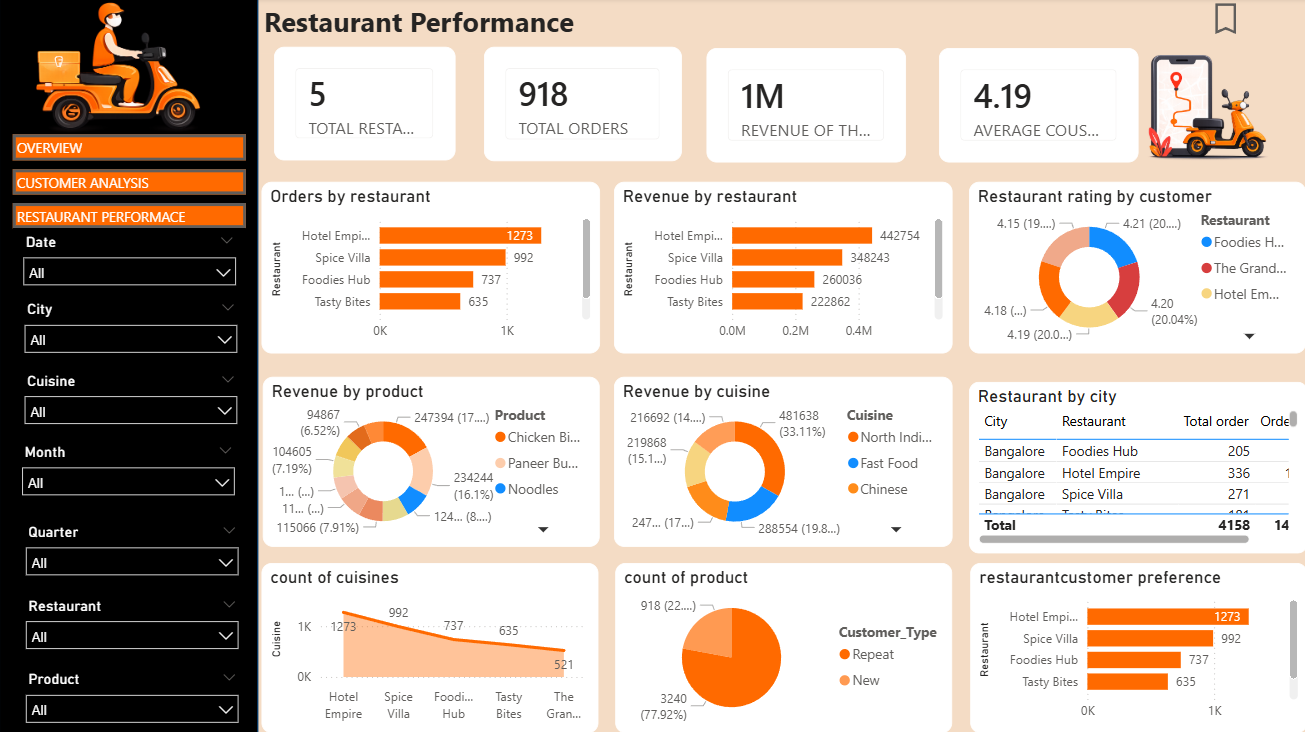

What the dashboard file says about the page in this screenshot:
{"tool":"powerbi","page":{"name":"Page 3","canvas":[1280,720],"ordinal":2},"visuals":[{"type":"shape","box":[0,0,253.9,720.4],"z":0},{"type":"image","box":[25.9,0,184,133.3],"z":1000},{"type":"actionButton","title":"OVERVIEW","box":[13.6,133.3,228.4,25.9],"z":2000},{"type":"actionButton","title":"OVERVIEW","box":[13.6,167.9,228.4,24.7],"z":3000},{"type":"actionButton","title":"OVERVIEW","box":[13.6,200,228.4,24.7],"z":4000},{"type":"slicer","fields":{"Values":["Orders.Order_Date"]},"box":[13.6,224.7,228.4,56.8],"z":5000},{"type":"textbox","box":[254.3,0,404.9,54.3],"z":6000},{"type":"cardVisual","fields":{"Data":["Count(Orders.Restaurant)"]},"box":[269.1,48.1,177.8,111.1],"z":7000},{"type":"cardVisual","fields":{"Data":["CountNonNull(Orders.Order_ID)"]},"box":[474.1,48.1,193.8,112.3],"z":8000},{"type":"cardVisual","fields":{"Data":["Sum(Orders.Order_Value)"]},"box":[692.6,49.4,195.1,112.3],"z":9000},{"type":"cardVisual","fields":{"Data":["Avg(Orders.Rating)"]},"box":[919.8,49.4,195.1,112.3],"z":10000},{"type":"tableEx","title":"Restaurant by city","fields":{"Values":["Orders.City","Orders.Restaurant","CountNonNull(Orders.Order_ID)","Sum(Orders.Order_Value)"]},"box":[949.4,375.3,330.9,167.9],"z":11000},{"type":"donutChart","title":"Restaurant rating by customer","fields":{"Category":["Orders.Restaurant"],"Y":["Avg(Orders.Rating)"]},"box":[949.4,180.2,329.6,167.9],"z":12000},{"type":"clusteredBarChart","title":"Revenue by restaurant","fields":{"Category":["Orders.Restaurant"],"Y":["Sum(Orders.Order_Value)"]},"box":[601.2,180.2,330.9,167.9],"z":13000},{"type":"donutChart","title":"Revenue by cuisine","fields":{"Category":["Orders.Cuisine"],"Y":["Sum(Orders.Order_Value)"]},"box":[601.2,370.4,330.9,166.7],"z":14000},{"type":"areaChart","title":"count of cuisines","fields":{"Category":["Orders.Restaurant"],"Y":["CountNonNull(Orders.Cuisine)"]},"box":[256.8,553.1,329.6,166.7],"z":15000},{"type":"clusteredBarChart","title":"restaurantcustomer preference","fields":{"Y":["CountNonNull(Orders.Customer_ID)"],"Category":["Orders.Restaurant"]},"box":[950.4,553.1,329.6,166.7],"z":16000},{"type":"slicer","fields":{"Values":["Orders.City"]},"box":[14.8,291.4,228.4,56.8],"z":17000},{"type":"slicer","fields":{"Values":["Orders.Cuisine"]},"box":[14.8,360.5,228.4,56.8],"z":18000},{"type":"slicer","fields":{"Values":["Orders.Month"]},"box":[12.3,430.9,228.4,56.8],"z":19000},{"type":"slicer","fields":{"Values":["Orders.Restaurant"]},"box":[16,580.2,228.4,56.8],"z":20000},{"type":"image","box":[1086.2,50.6,193.8,111.1],"z":21000},{"type":"clusteredBarChart","title":"Orders by restaurant","fields":{"Y":["CountNonNull(Orders.Order_ID)"],"Category":["Orders.Restaurant"]},"box":[256.8,180.2,330.9,167.9],"z":22000},{"type":"slicer","fields":{"Values":["Orders.Quarter"]},"box":[16,508.6,228.4,56.8],"z":23000},{"type":"slicer","fields":{"Values":["Orders.Product"]},"box":[15.6,653.2,228.6,57.1],"z":24000},{"type":"donutChart","title":"Revenue by product","fields":{"Y":["Sum(Orders.Order_Value)"],"Category":["Orders.Product"]},"box":[258.4,370.1,329.9,166.2],"z":25000},{"type":"pieChart","title":"count of product","fields":{"Category":["Orders.Customer_Type"],"Y":["CountNonNull(Orders.Customer_ID)"]},"box":[602.6,553.2,329.9,166.2],"z":26000},{"type":"actionButton","box":[1180.5,0,100,40.3],"z":27000}]}

Visuals, with their boxes in screenshot pixels (x1, y1, x2, y2), scaled from the page's 1280x720 canvas onto the 1305x732 screenshot:
shape: <bbox>0, 0, 259, 731</bbox>
image: <bbox>26, 0, 214, 136</bbox>
"OVERVIEW" actionButton: <bbox>14, 136, 247, 162</bbox>
"OVERVIEW" actionButton: <bbox>14, 171, 247, 196</bbox>
"OVERVIEW" actionButton: <bbox>14, 203, 247, 228</bbox>
slicer - Orders.Order_Date: <bbox>14, 228, 247, 286</bbox>
textbox: <bbox>259, 0, 672, 55</bbox>
cardVisual - Count(Orders.Restaurant): <bbox>274, 49, 456, 162</bbox>
cardVisual - CountNonNull(Orders.Order_ID): <bbox>483, 49, 681, 163</bbox>
cardVisual - Sum(Orders.Order_Value): <bbox>706, 50, 905, 164</bbox>
cardVisual - Avg(Orders.Rating): <bbox>938, 50, 1137, 164</bbox>
"Restaurant by city" tableEx: <bbox>968, 382, 1304, 552</bbox>
"Restaurant rating by customer" donutChart: <bbox>968, 183, 1304, 354</bbox>
"Revenue by restaurant" clusteredBarChart: <bbox>613, 183, 950, 354</bbox>
"Revenue by cuisine" donutChart: <bbox>613, 377, 950, 546</bbox>
"count of cuisines" areaChart: <bbox>262, 562, 598, 731</bbox>
"restaurantcustomer preference" clusteredBarChart: <bbox>969, 562, 1304, 731</bbox>
slicer - Orders.City: <bbox>15, 296, 248, 354</bbox>
slicer - Orders.Cuisine: <bbox>15, 367, 248, 424</bbox>
slicer - Orders.Month: <bbox>13, 438, 245, 496</bbox>
slicer - Orders.Restaurant: <bbox>16, 590, 249, 648</bbox>
image: <bbox>1107, 51, 1304, 164</bbox>
"Orders by restaurant" clusteredBarChart: <bbox>262, 183, 599, 354</bbox>
slicer - Orders.Quarter: <bbox>16, 517, 249, 575</bbox>
slicer - Orders.Product: <bbox>16, 664, 249, 722</bbox>
"Revenue by product" donutChart: <bbox>263, 376, 600, 545</bbox>
"count of product" pieChart: <bbox>614, 562, 951, 731</bbox>
actionButton: <bbox>1204, 0, 1304, 41</bbox>
